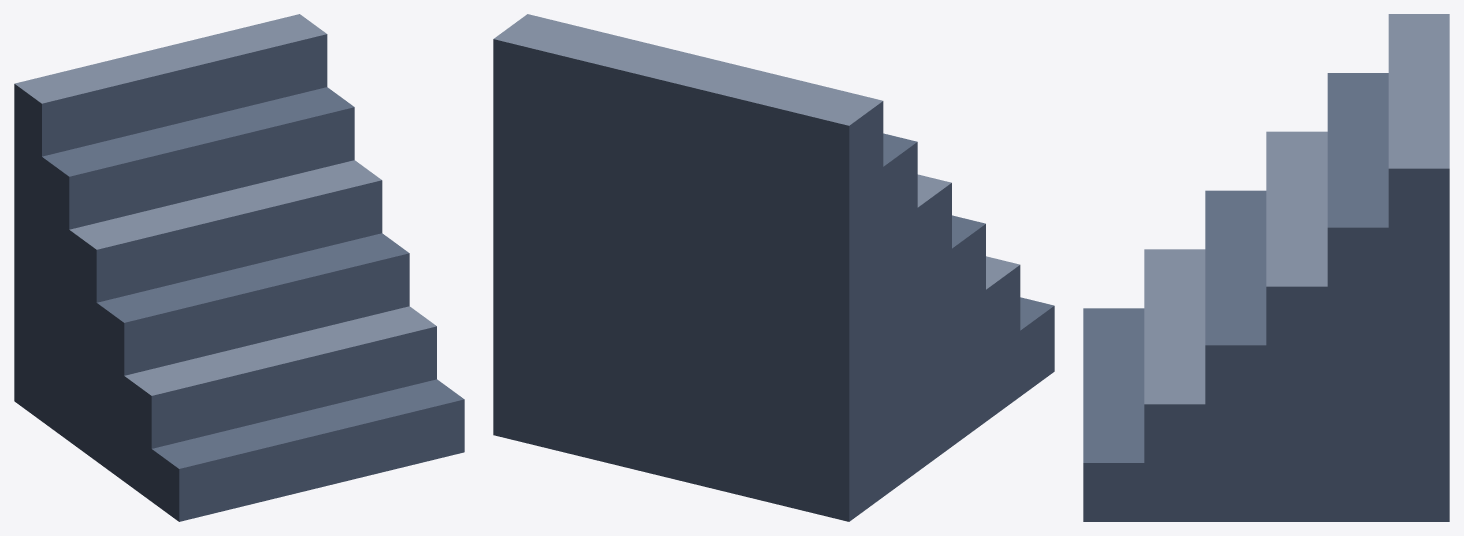
Rendered from kit_stairs.glb.
3 renders of one model, left to right at view 1: azimuth 30°, elevation 25°; view 2: azimuth 150°, elevation 25°; view 3: azimuth 270°, elevation 25°, orthographic. The views are drawn at different scales.
Parts seen in each view (by area): view 1: kit_stairs_stone; view 2: kit_stairs_stone; view 3: kit_stairs_stone.
Boxes of the visible parts, x1=… form: kit_stairs_stone: x1=14, y1=14, x2=464, y2=521; kit_stairs_stone: x1=493, y1=14, x2=1054, y2=521; kit_stairs_stone: x1=1083, y1=14, x2=1449, y2=521.
Size of the model in its own units: 0.94 by 1 by 0.94.
Materials: 1 (1 with a texture image).
